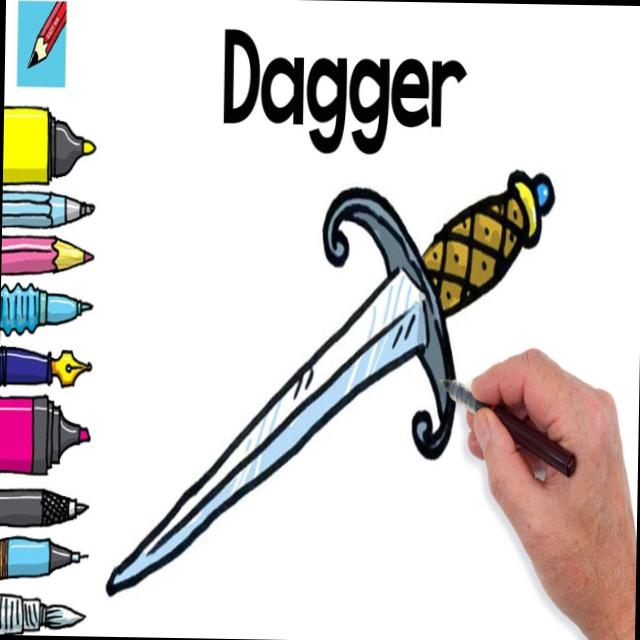Gun: (108, 88, 560, 635)
